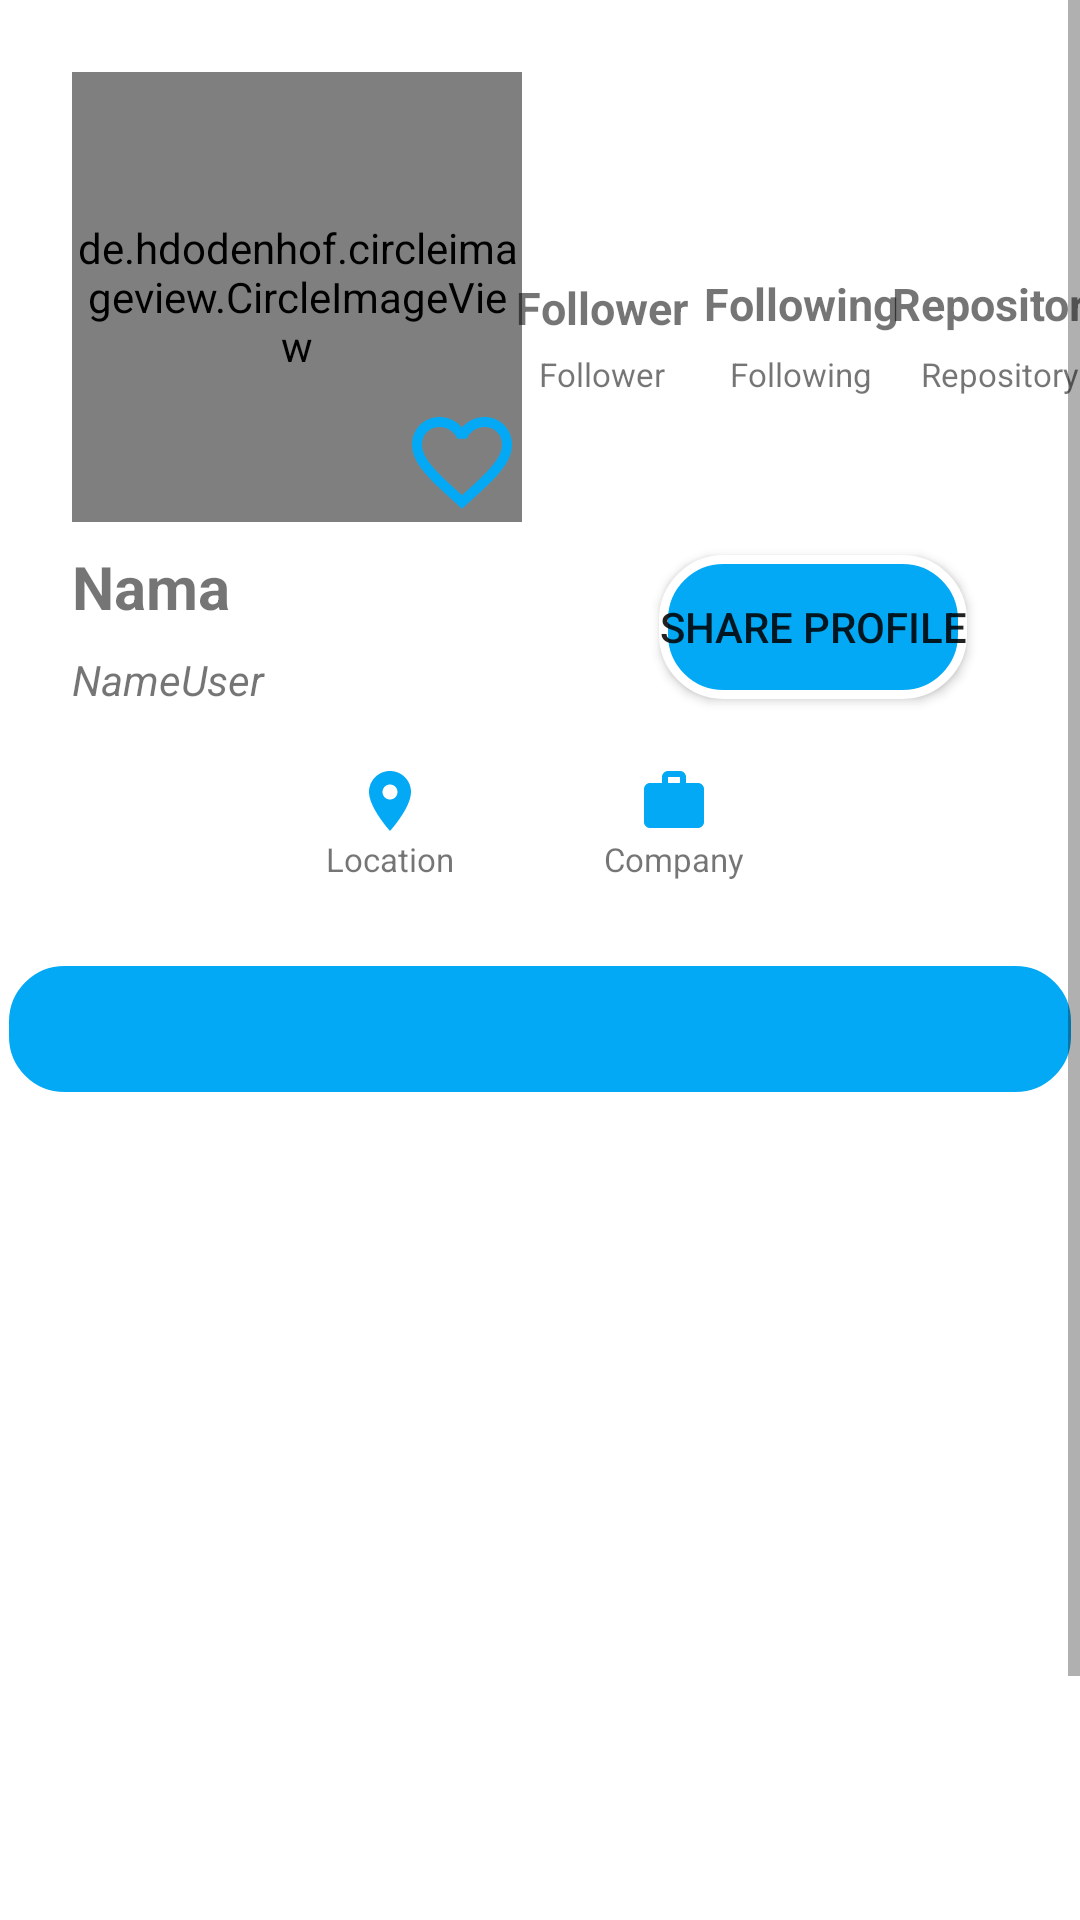

Icons on this 1080*1920 Android screen, each with its box as (x1, y1, x2, y2):
toggle user favorite: (412, 417, 512, 509)
